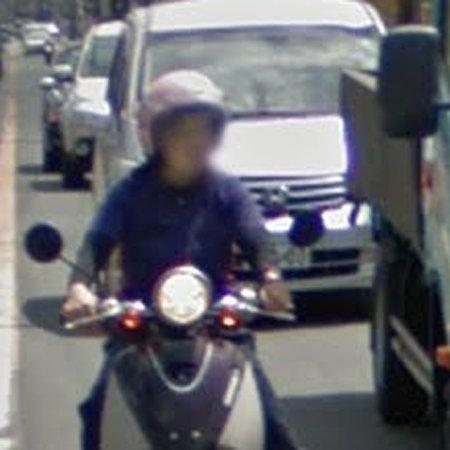motorcycles: (23, 266, 296, 450)
